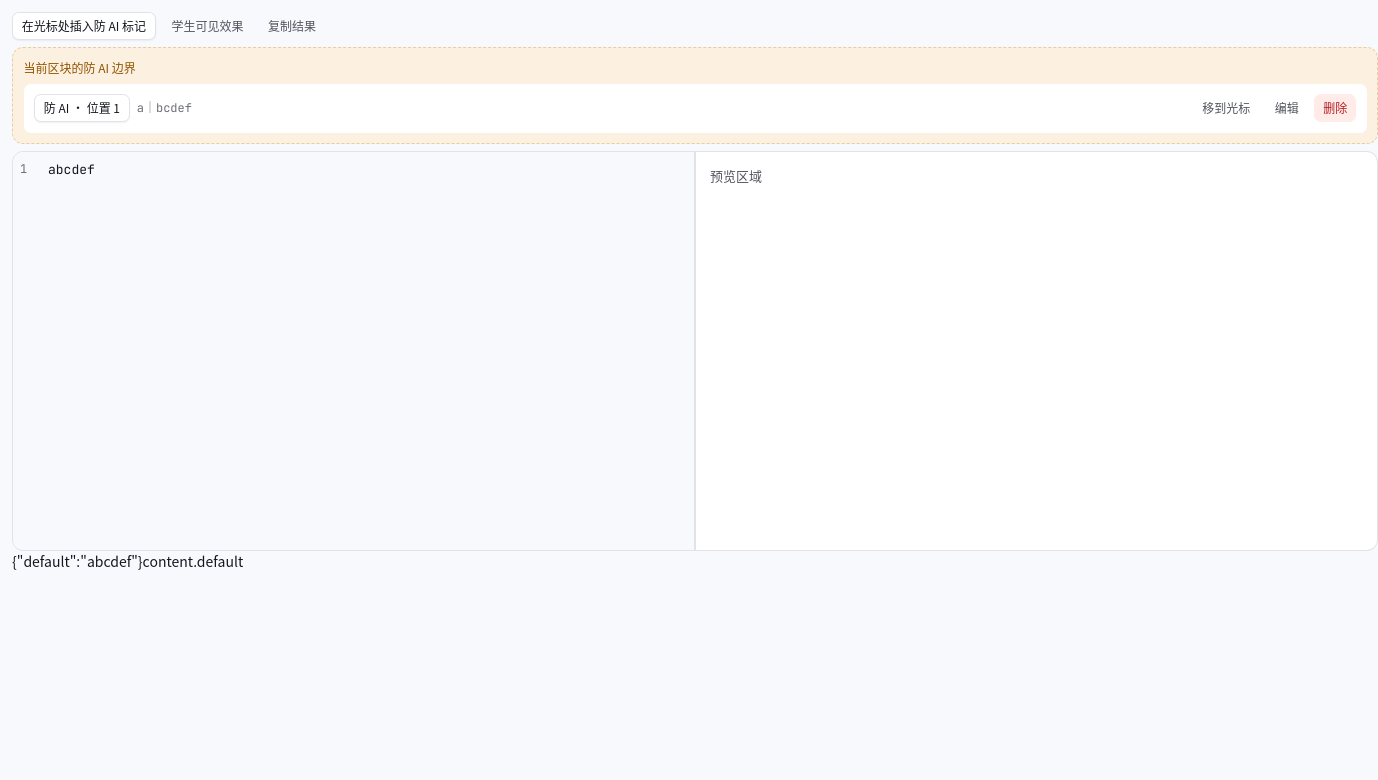
Test case: anti AI marker author controls › keeps the canonical content.default author path for a single-key default object value
The width and height of the screenshot is (1378, 780).
Expected: the element with test id "anti-ai-marker-boundaries" shows "a│bcdef", [12,47,1377,144]
Click the button "在光标处插入防 AI 标记". click: (84, 26)
box: [12,12,156,40]
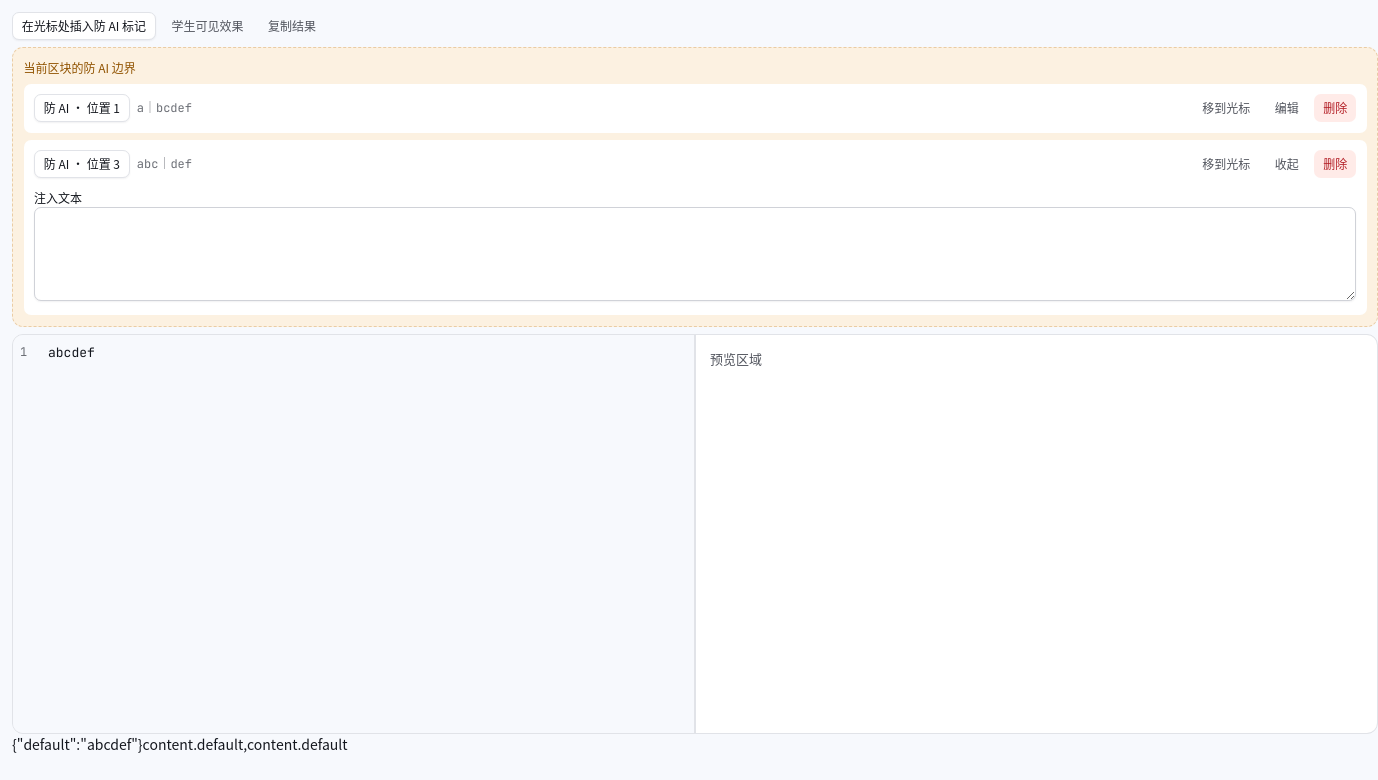
Now the text named "marker-paths" reads "content.default,content.default", box [143,734,348,754]
Replace the text in the text box with placeholder "在此输入 Markdown 内容" with "abcdeg". click: (354, 534)
box: [13,334,694,732]
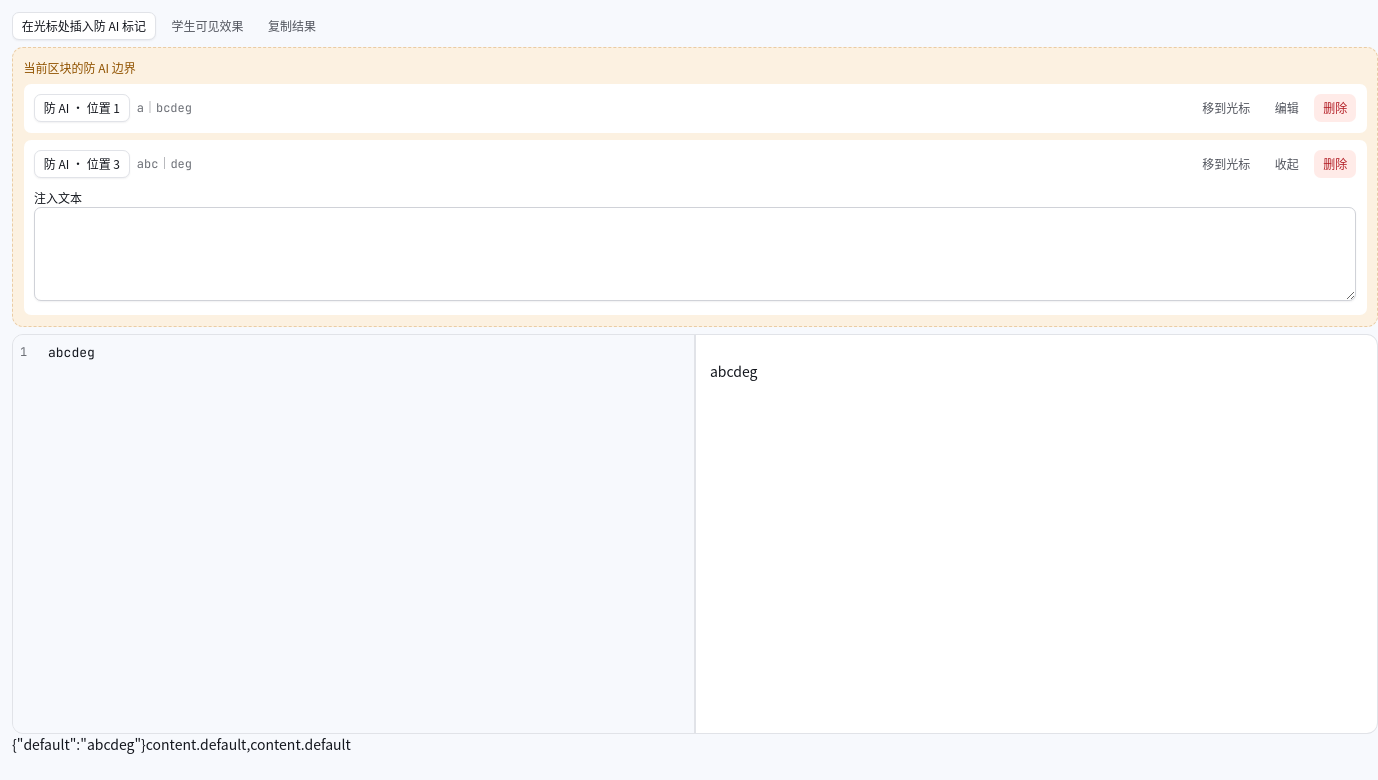
Now the text named "canonical-markdown" reads "{\"default\":\"abcdeg\"}", box [12,734,146,754]
